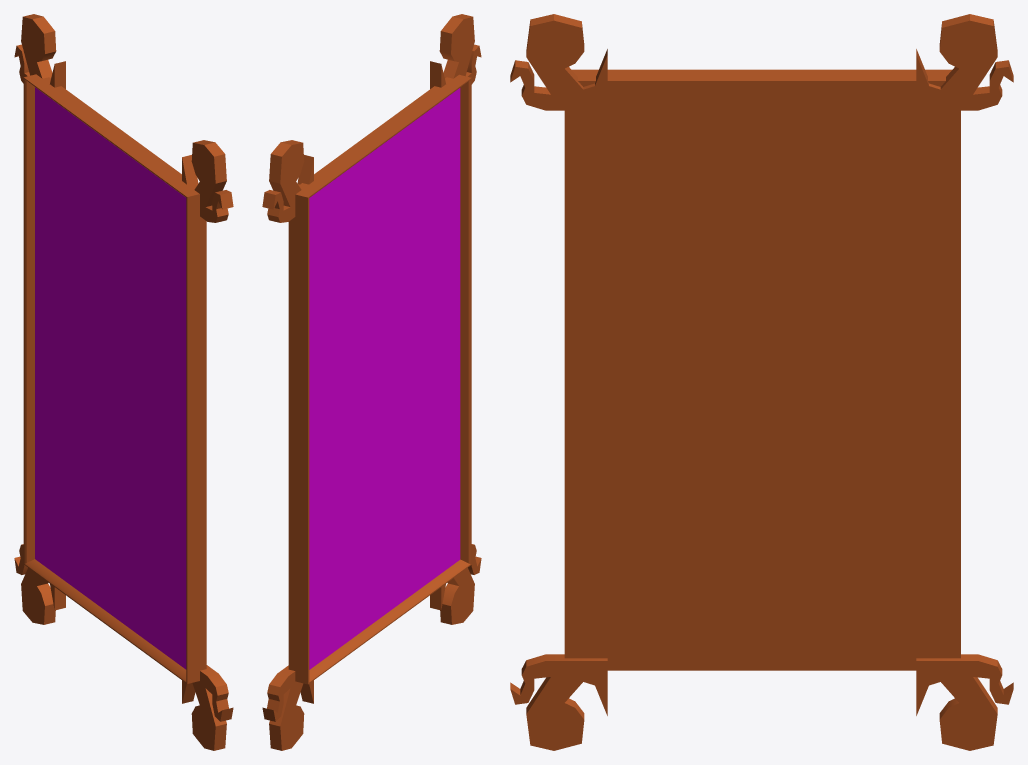
Rendered from alexc_painting.fbx.
3 views of the same model, side by side, from view 1: azimuth 30°, elevation 25°; view 2: azimuth 150°, elevation 25°; view 3: azimuth 270°, elevation 25° (orthographic). The views are drawn at different scales.
Visible parts, largest first — view 1: painting; view 2: painting; view 3: painting.
Part boxes in pixels (box(x1,y1,x2,y2)): painting: box(14, 14, 233, 750); painting: box(262, 14, 481, 750); painting: box(510, 14, 1013, 750).
Bounding box in the file's own units: 32.39 × 489 × 782.
